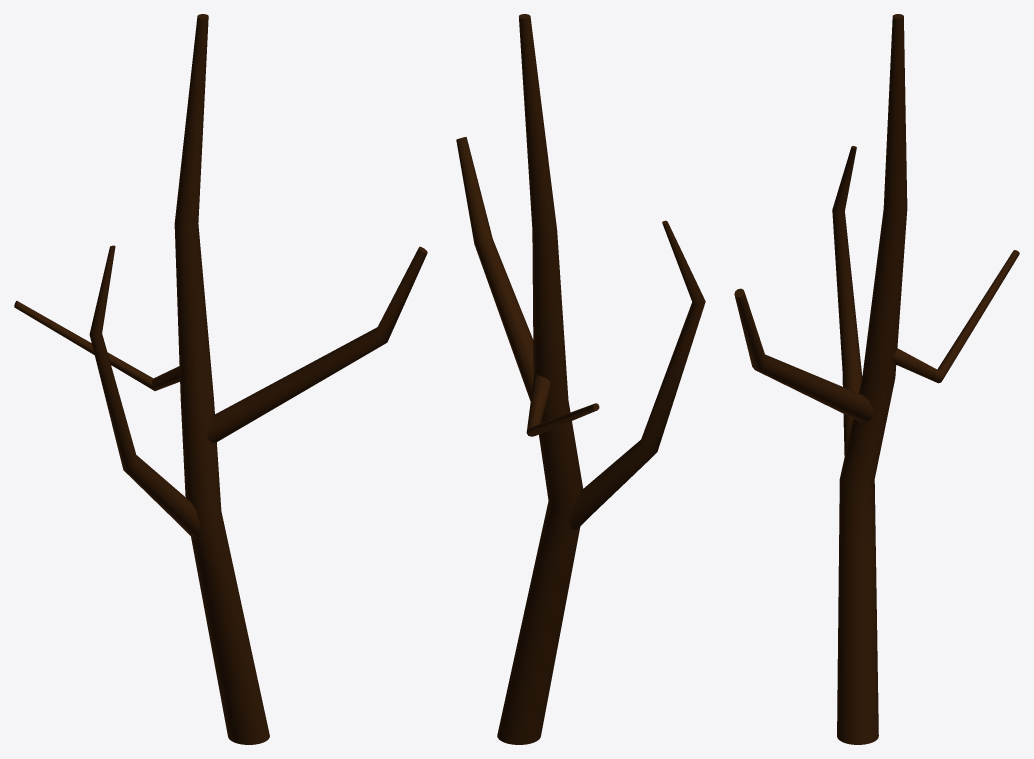
The model's file is Tree3.fbx.
3 renders of one model, left to right at view 1: azimuth 30°, elevation 25°; view 2: azimuth 150°, elevation 25°; view 3: azimuth 270°, elevation 25°, orthographic. The views are drawn at different scales.
Visible parts, largest first — view 1: Cylinder.005; view 2: Cylinder.005; view 3: Cylinder.005.
Part boxes in pixels (x1,y1,x2,y2): Cylinder.005: (14, 14, 427, 744); Cylinder.005: (456, 14, 705, 744); Cylinder.005: (734, 14, 1019, 744).
Bounding box in the file's own units: 1577 × 3730 × 1364.
